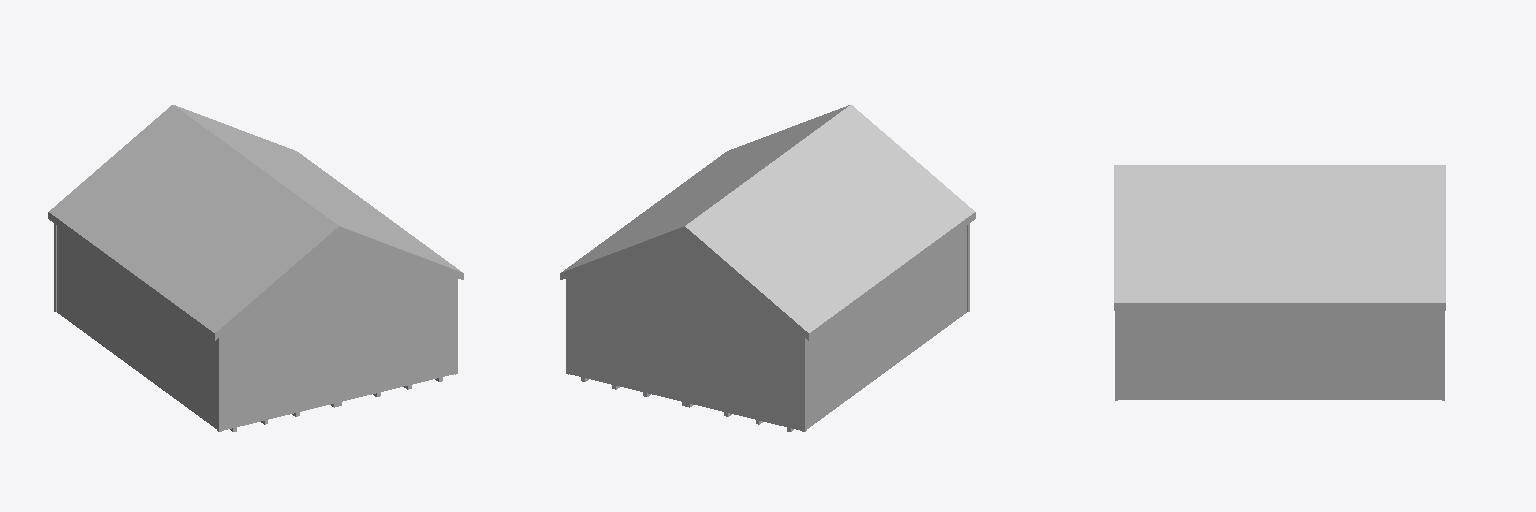
The model's file is Double Garage 6-12 PITCH ROOF_20x24.obj.
3 renders of one model, left to right at view 1: azimuth 30°, elevation 25°; view 2: azimuth 150°, elevation 25°; view 3: azimuth 270°, elevation 25°, orthographic.
Parts seen in each view (by area): view 1: Double Garage 6-12 PITCH ROOF_20x24.obj; view 2: Double Garage 6-12 PITCH ROOF_20x24.obj; view 3: Double Garage 6-12 PITCH ROOF_20x24.obj.
Part boxes in pixels (left/top/right/bottom): Double Garage 6-12 PITCH ROOF_20x24.obj: left=48, top=105, right=463, bottom=431; Double Garage 6-12 PITCH ROOF_20x24.obj: left=560, top=105, right=975, bottom=431; Double Garage 6-12 PITCH ROOF_20x24.obj: left=1114, top=165, right=1445, bottom=400.
Size of the model in its own units: 6.4 by 4.46 by 7.42.